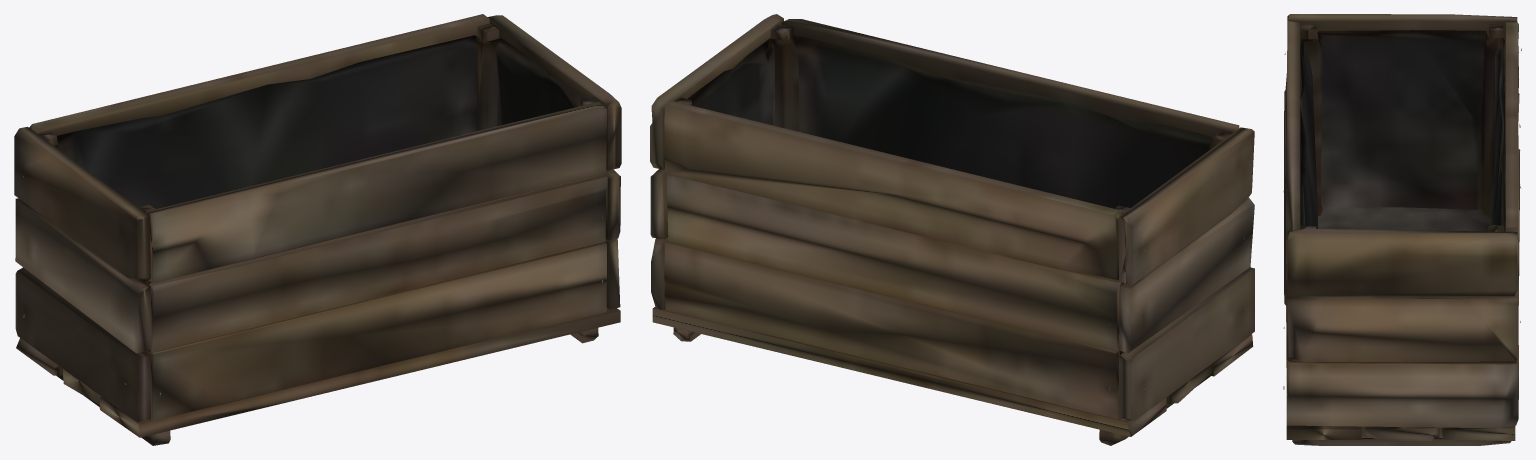
Rendered from planter_box_01_lod2.glb.
3 views of the same model, side by side, from view 1: azimuth 30°, elevation 25°; view 2: azimuth 150°, elevation 25°; view 3: azimuth 270°, elevation 25° (orthographic). The views are drawn at different scales.
Visible parts, largest first — view 1: planter_box_01; view 2: planter_box_01; view 3: planter_box_01.
Part boxes in pixels (left/top/right/bottom): planter_box_01: left=14, top=14, right=621, bottom=445; planter_box_01: left=650, top=14, right=1254, bottom=445; planter_box_01: left=1283, top=14, right=1521, bottom=445.
Bounding box in the file's own units: 0.9121 × 0.4249 × 0.4134.
1 material, 1 textured.
